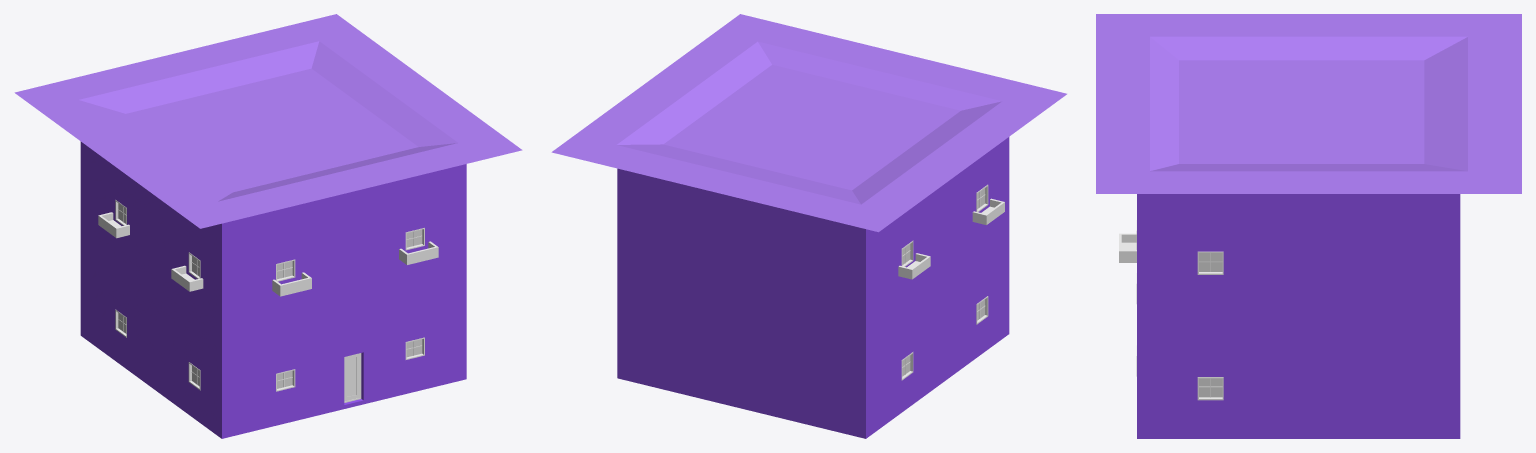
File: House_24.fbx
3 renders of one model, left to right at view 1: azimuth 30°, elevation 25°; view 2: azimuth 150°, elevation 25°; view 3: azimuth 270°, elevation 25°, orthographic. The views are drawn at different scales.
Parts seen in each view (by area): view 1: House_24_Body; view 2: House_24_Body; view 3: House_24_Body.
Part boxes in pixels (box(x1,y1,x2,y2)): House_24_Body: box(14, 14, 522, 438); House_24_Body: box(551, 14, 1066, 438); House_24_Body: box(1096, 14, 1521, 438).
Bounding box in the file's own units: 1684 × 1162 × 1684.
